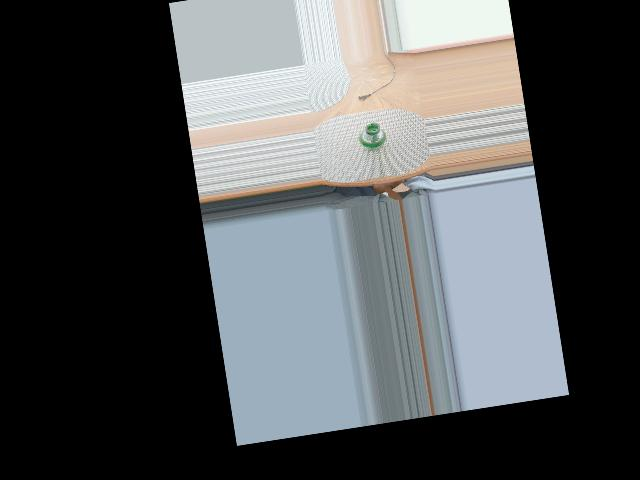beer: (357, 121, 386, 152)
